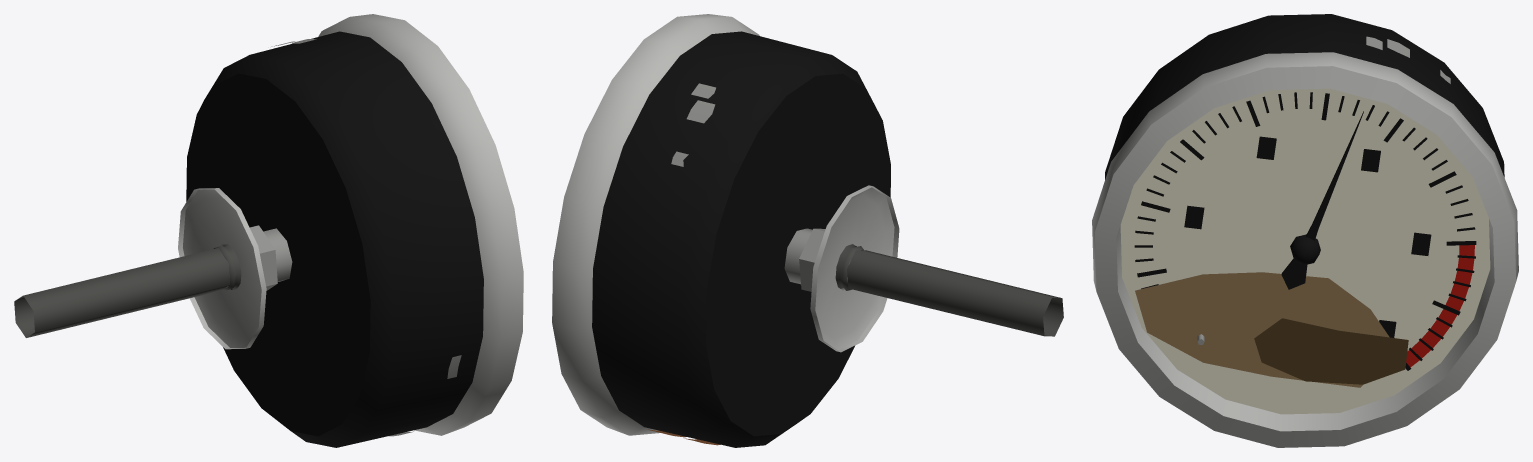
Rendered from gauge@3.glb.
3 views of the same model, side by side, from view 1: azimuth 30°, elevation 25°; view 2: azimuth 150°, elevation 25°; view 3: azimuth 270°, elevation 25° (orthographic).
Parts seen in each view (by area): view 1: gauge0, gauge1, gauge8, gauge7; view 2: gauge0, gauge1, gauge8, gauge7; view 3: gauge2, gauge1, gauge11, gauge0, gauge10, gauge3, gauge6, gauge4, gauge5, gauge7.
Boxes of the visible parts, <box> form: gauge0: <box>186,31,483,447</box>; gauge1: <box>178,14,523,435</box>; gauge8: <box>14,244,241,337</box>; gauge7: <box>221,39,461,436</box>; gauge0: <box>592,31,890,447</box>; gauge1: <box>552,14,899,435</box>; gauge8: <box>835,244,1063,336</box>; gauge7: <box>671,83,855,291</box>; gauge2: <box>1120,88,1490,414</box>; gauge1: <box>1092,52,1518,447</box>; gauge11: <box>1135,272,1389,387</box>; gauge0: <box>1105,14,1504,179</box>; gauge10: <box>1254,318,1408,384</box>; gauge3: <box>1134,92,1476,370</box>; gauge6: <box>1281,111,1363,289</box>; gauge4: <box>1406,245,1474,367</box>; gauge5: <box>1184,136,1431,337</box>; gauge7: <box>1197,36,1450,344</box>.
Bounding box in the file's own units: 0.164 × 0.1511 × 0.1511.
